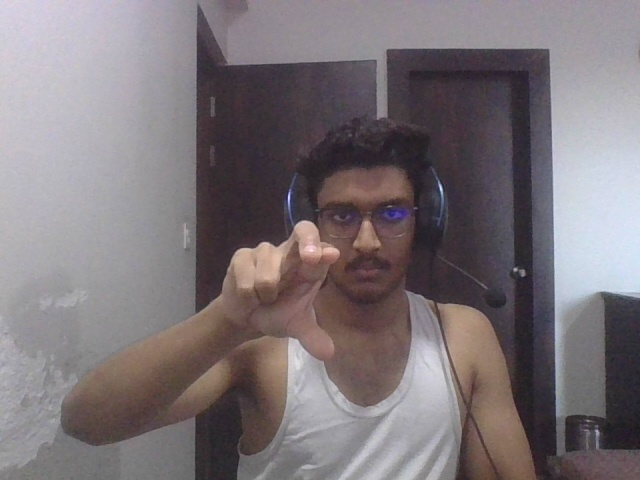No: (203, 215, 360, 367)
